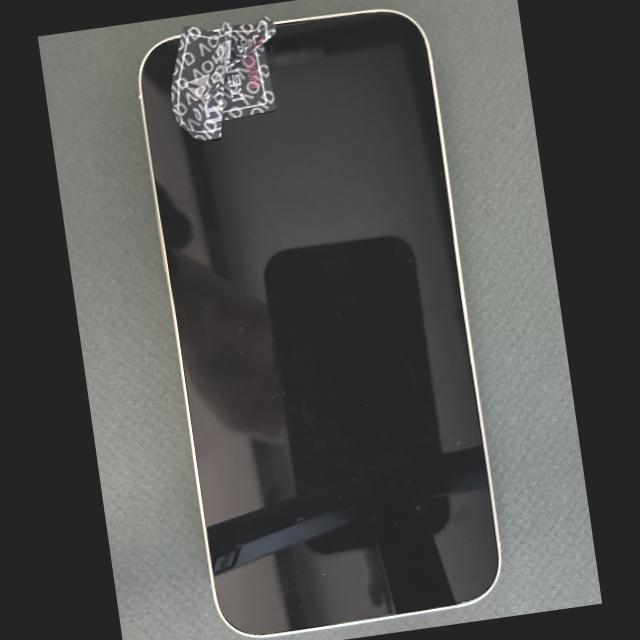phone: (137, 9, 503, 639)
sticker: (170, 16, 277, 141)
